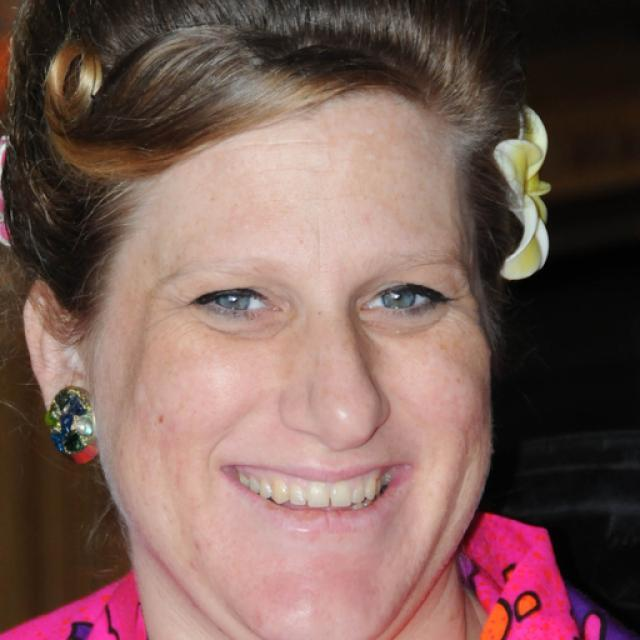happy: (91, 110, 498, 640)
